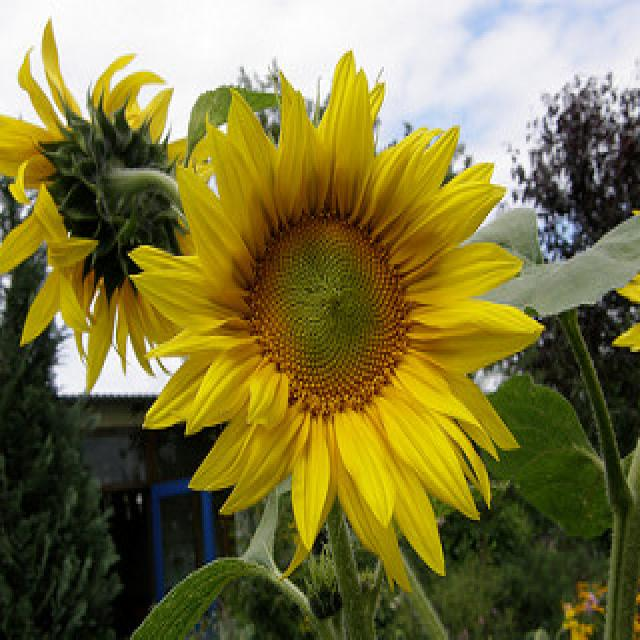sunflower: (128, 42, 546, 594), (0, 12, 206, 399)
